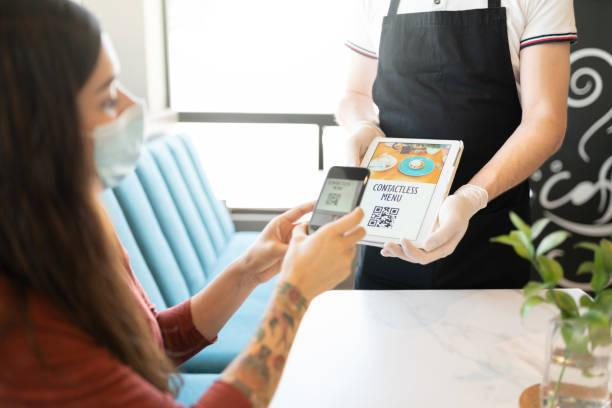Finder pattern: (366, 218, 381, 229), (388, 207, 401, 218), (372, 205, 386, 215)
